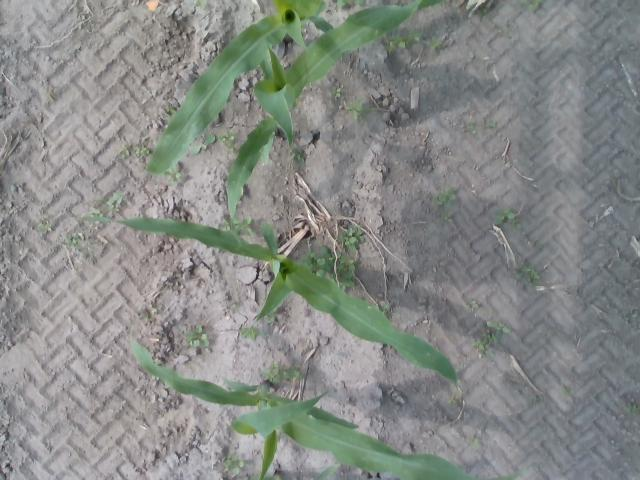Maize: (78, 215, 458, 390), (128, 340, 522, 480), (226, 1, 444, 248), (142, 0, 320, 175), (314, 465, 340, 480)
Weeds: (336, 228, 365, 248), (184, 326, 209, 348), (306, 249, 331, 269), (346, 98, 369, 119), (493, 206, 516, 226), (262, 364, 282, 382), (478, 335, 496, 354), (224, 456, 243, 474), (235, 214, 252, 234), (437, 188, 458, 204), (488, 322, 509, 336), (239, 326, 260, 340), (388, 36, 407, 51), (523, 266, 538, 284), (106, 196, 123, 211), (337, 259, 355, 273), (464, 434, 482, 448), (336, 0, 364, 8), (522, 0, 540, 12), (284, 370, 302, 382), (66, 232, 84, 244), (428, 36, 443, 50), (339, 272, 354, 286), (169, 170, 184, 184), (292, 148, 306, 162), (134, 145, 150, 157), (221, 133, 235, 146), (406, 33, 422, 44), (332, 85, 343, 98), (120, 145, 130, 159), (626, 403, 638, 414), (194, 0, 208, 9), (562, 386, 574, 396), (466, 121, 477, 131), (39, 223, 48, 233), (468, 300, 478, 308), (487, 120, 496, 128), (448, 398, 456, 406), (523, 140, 529, 146)
